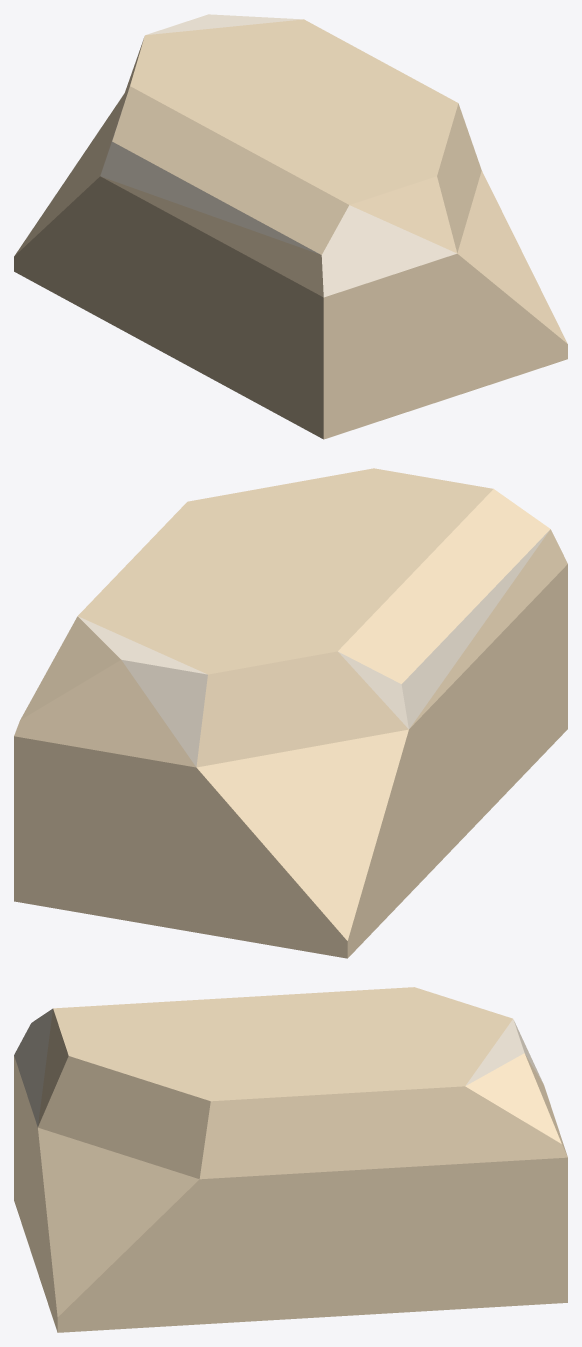
The model's file is desert_rock_16.fbx.
3 views of the same model, one above another, from view 1: azimuth 30°, elevation 25°; view 2: azimuth 150°, elevation 25°; view 3: azimuth 270°, elevation 25° (orthographic). The views are drawn at different scales.
Visible parts, largest first — view 1: desert_rock_16; view 2: desert_rock_16; view 3: desert_rock_16.
Boxes of the visible parts, x1,y1,x2,y2 form: desert_rock_16: (14,14,567,439); desert_rock_16: (14,468,567,958); desert_rock_16: (14,987,567,1332).
Size of the model in its own units: 202 by 124 by 292.
